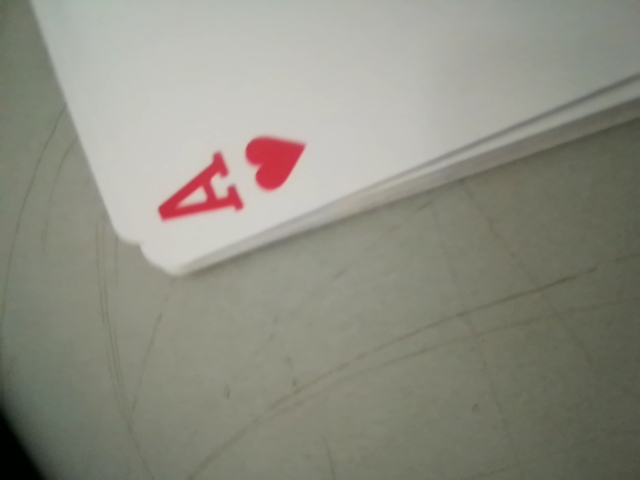hx a: (145, 111, 325, 240)
